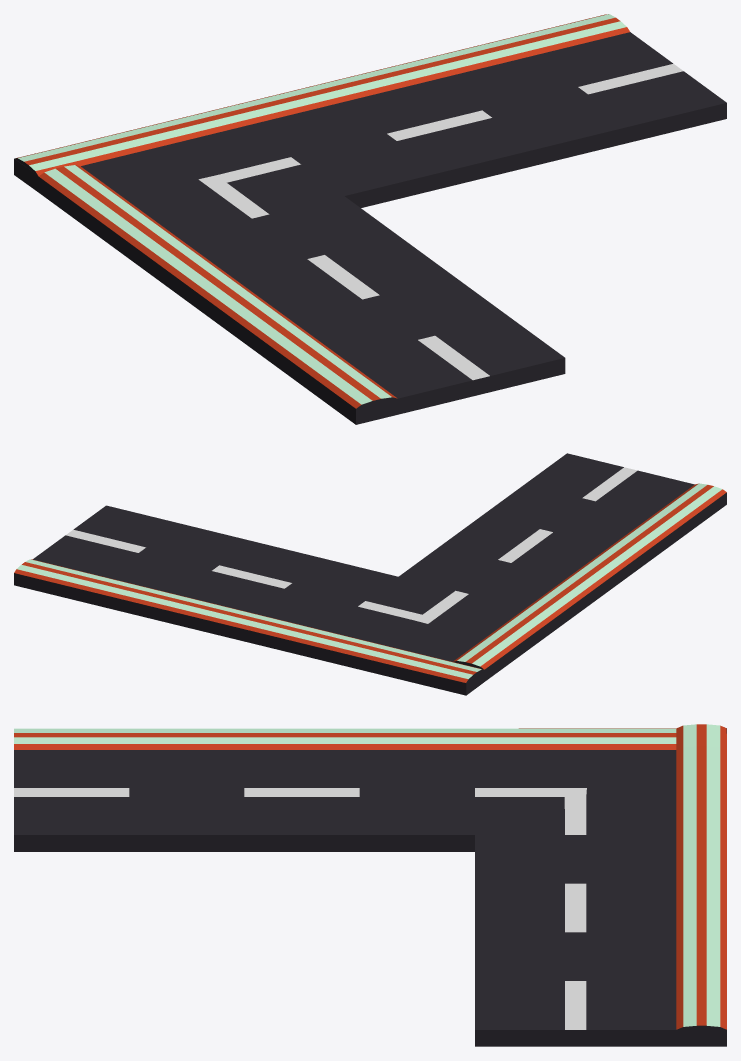
File: corner.fbx
The picture shows the model from 3 angles, top to bottom: view 1: azimuth 30°, elevation 25°; view 2: azimuth 150°, elevation 25°; view 3: azimuth 270°, elevation 25°; orthographic projection. The views are drawn at different scales.
Visible parts, largest first — view 1: Cube.002; view 2: Cube.002; view 3: Cube.002.
Boxes of the visible parts, box(x1,y1,x2,y2) form: Cube.002: box(14, 14, 726, 424); Cube.002: box(14, 453, 726, 695); Cube.002: box(14, 724, 726, 1046).
Bounding box in the file's own units: 1592 × 51.77 × 1591.
